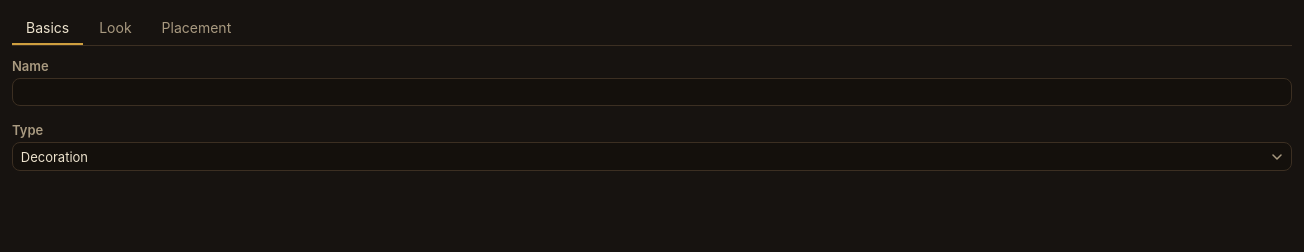
it: object editor › shows Contents only for objects that hold pages or loot
Expected: the tabs read "Basics", "Look", "Placement", in this order, [12,12,83,45]; [85,12,146,45]; [148,12,245,45]
Select "Lootable" in the dropdown labelled "Type" at coordinates (652, 157), box [12,142,1292,171]
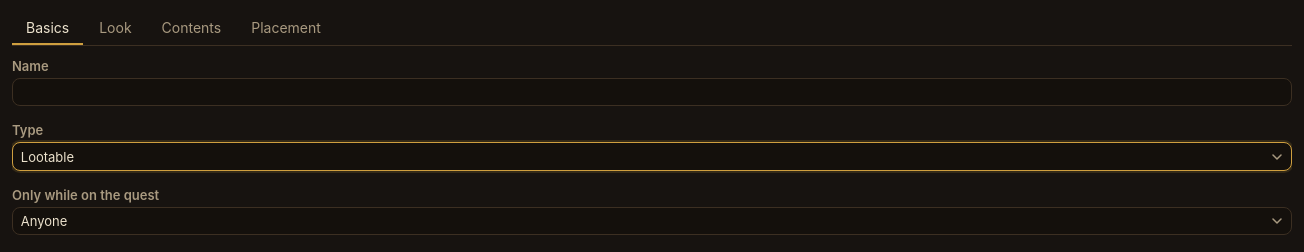
Click the tab "Contents" at coordinates (191, 28), box [148,12,235,45]
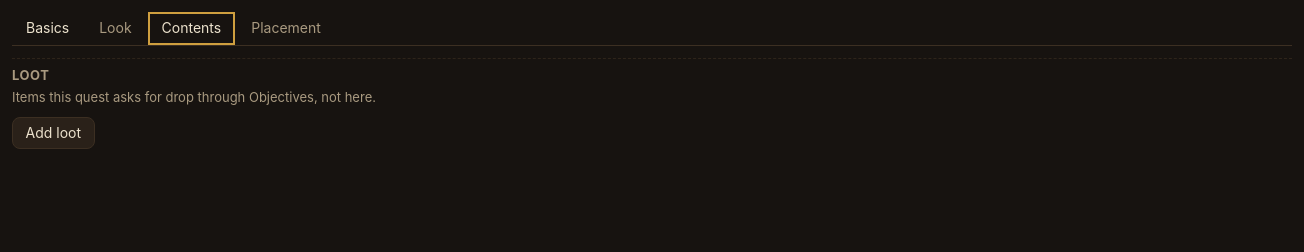
Result: the button "Add loot" is shown at [12,117,95,149]
